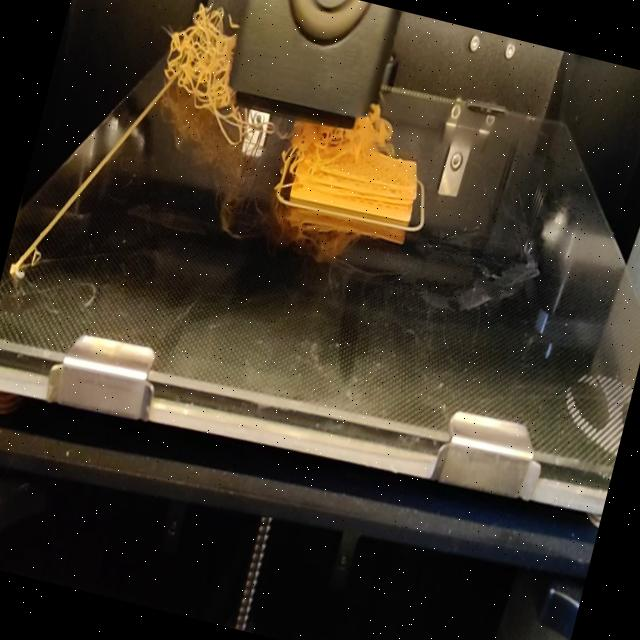spaghetti: (148, 0, 247, 126), (214, 90, 290, 154)
